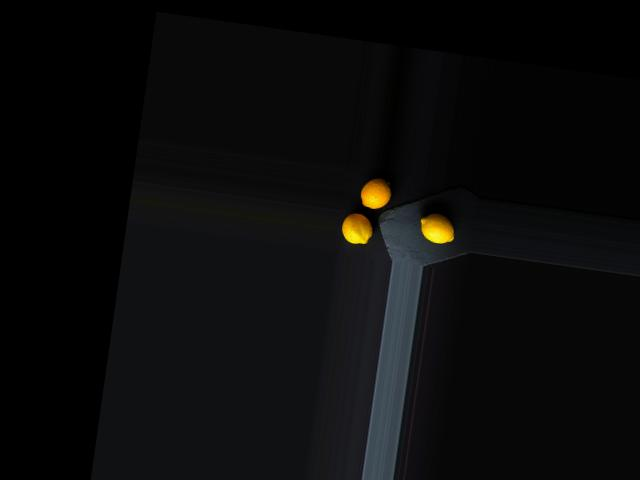lemon: (337, 209, 377, 247)
